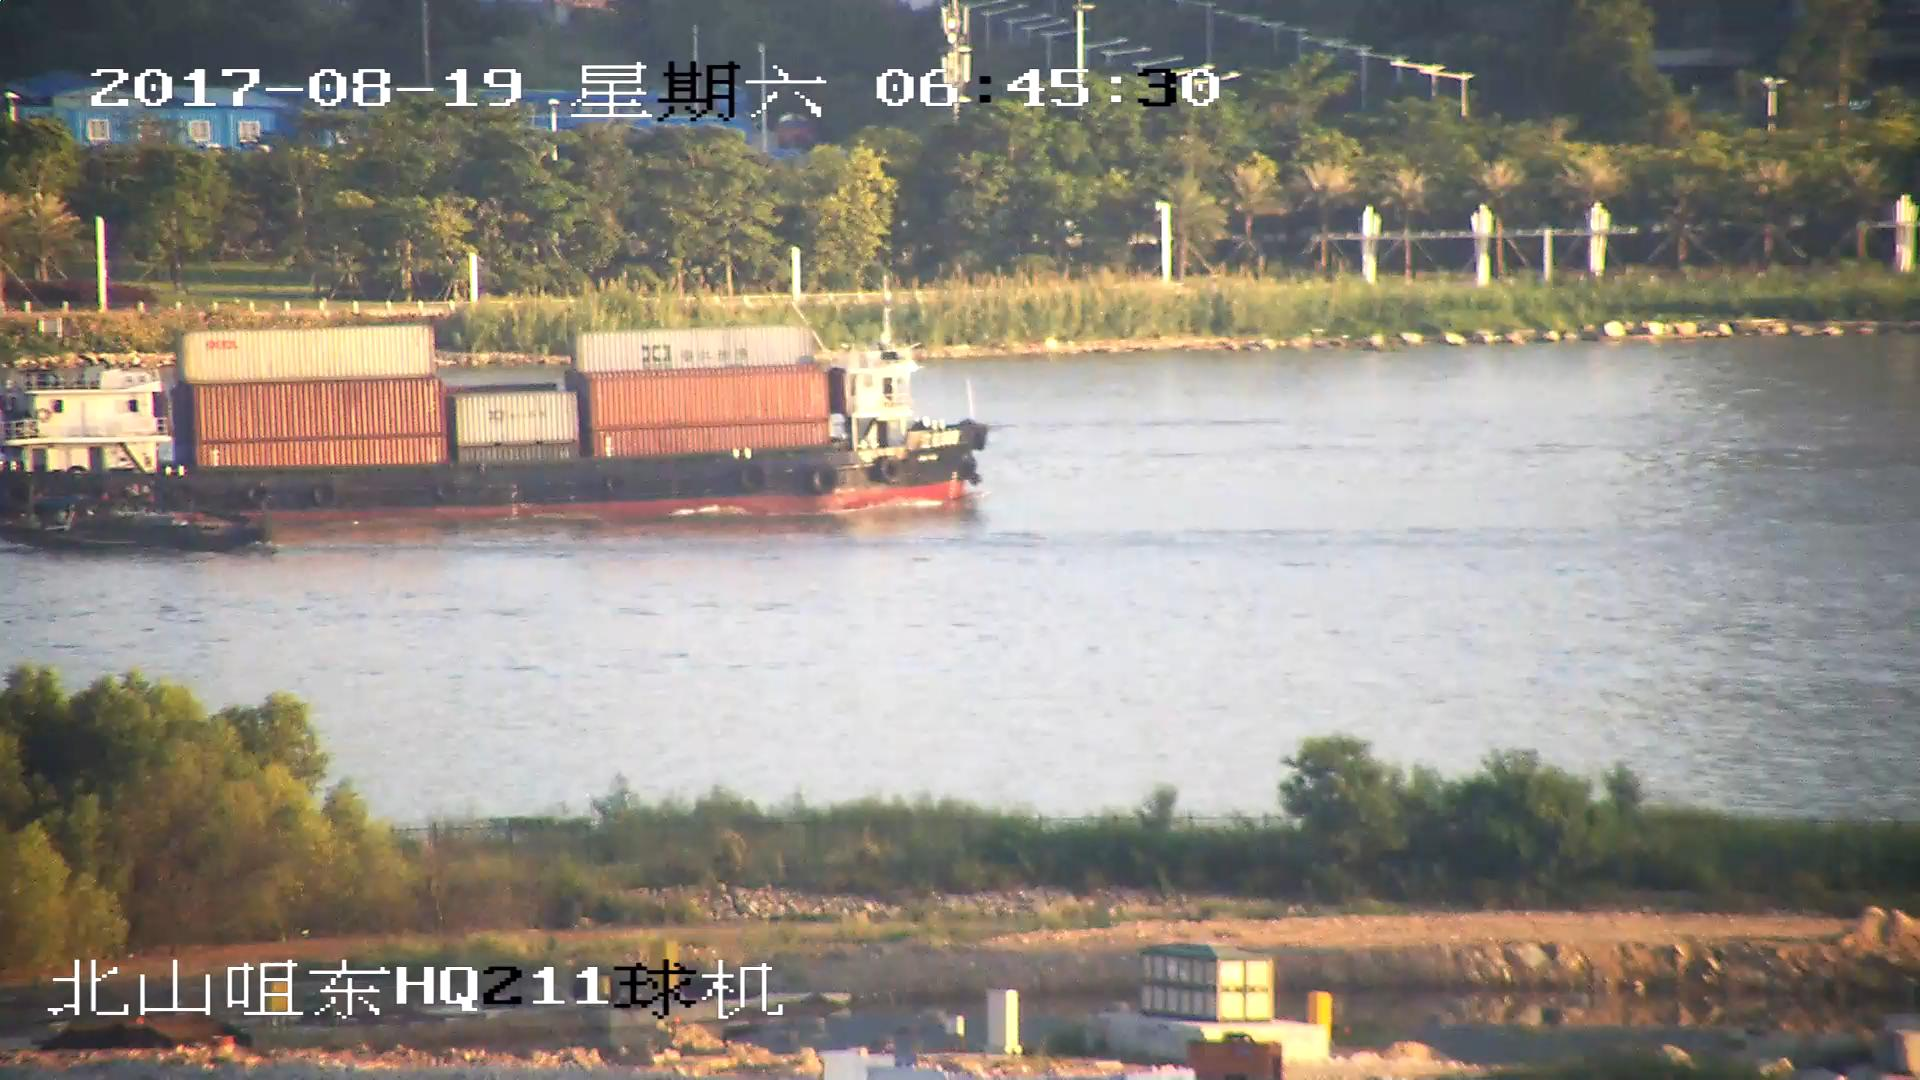container ship: (1, 311, 980, 526)
fishing boat: (10, 512, 273, 561)
